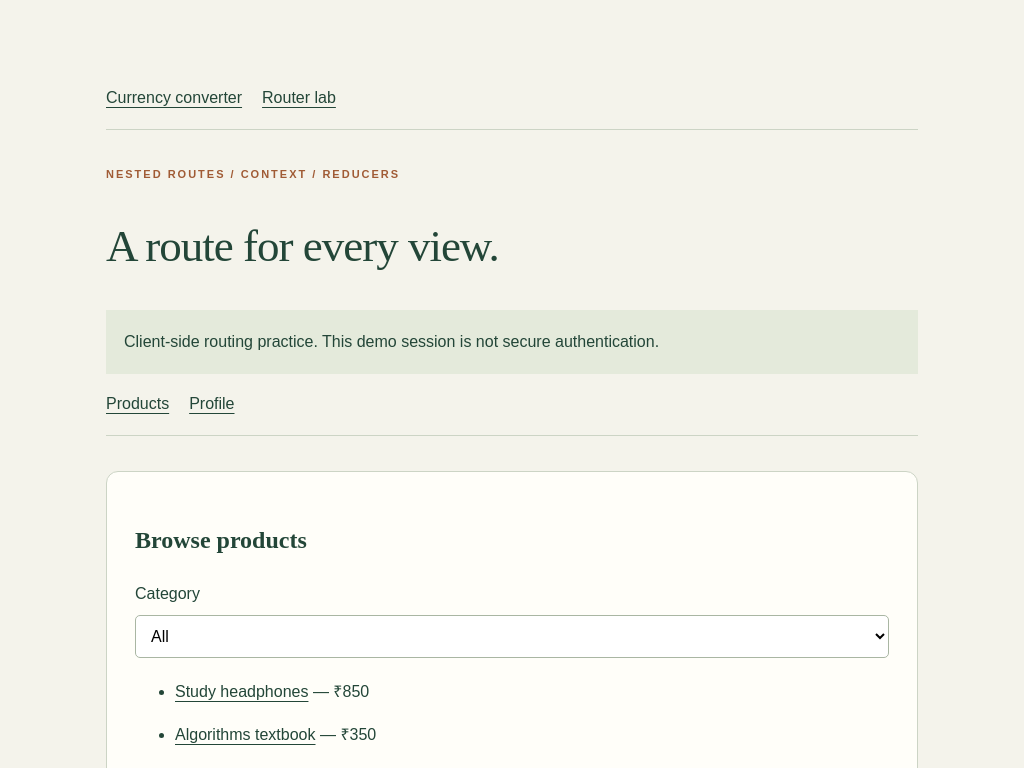
it: uses nested product routes and renders missing products
Select "Books" in the dropdown labelled "Category". click: {"x": 512, "y": 637}
box: [135,616,889,658]
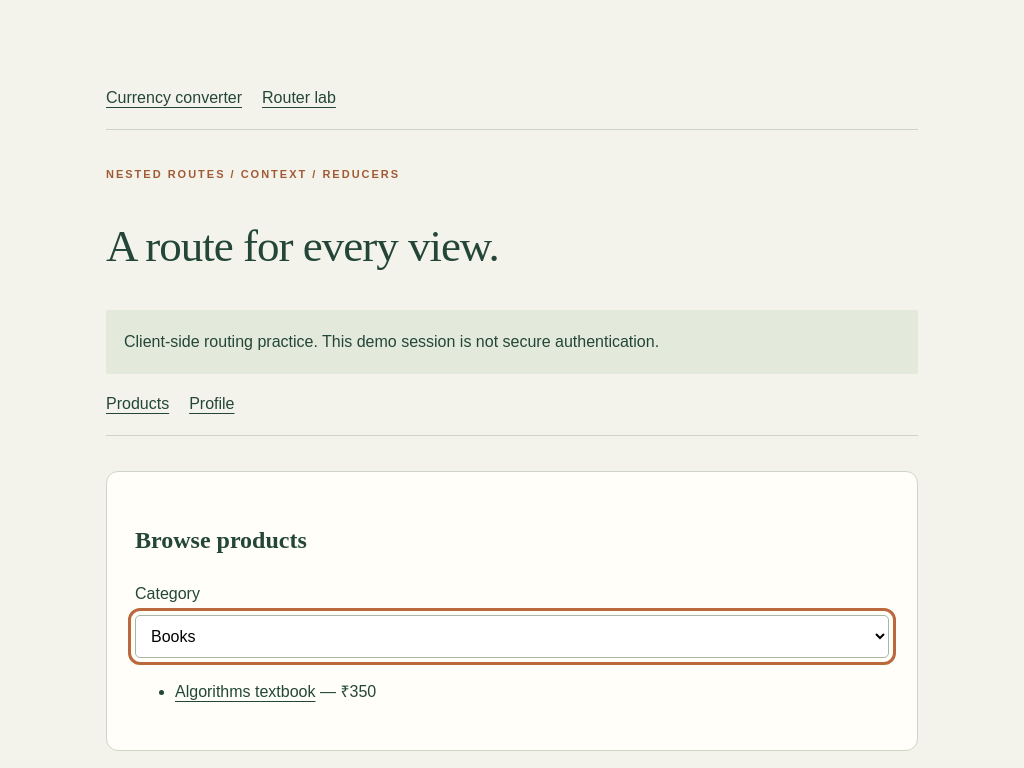
expect the link "Study headphones" is gone: met
Click the link "Algorithms textbook". click: {"x": 245, "y": 692}
box: [175,684,316,700]
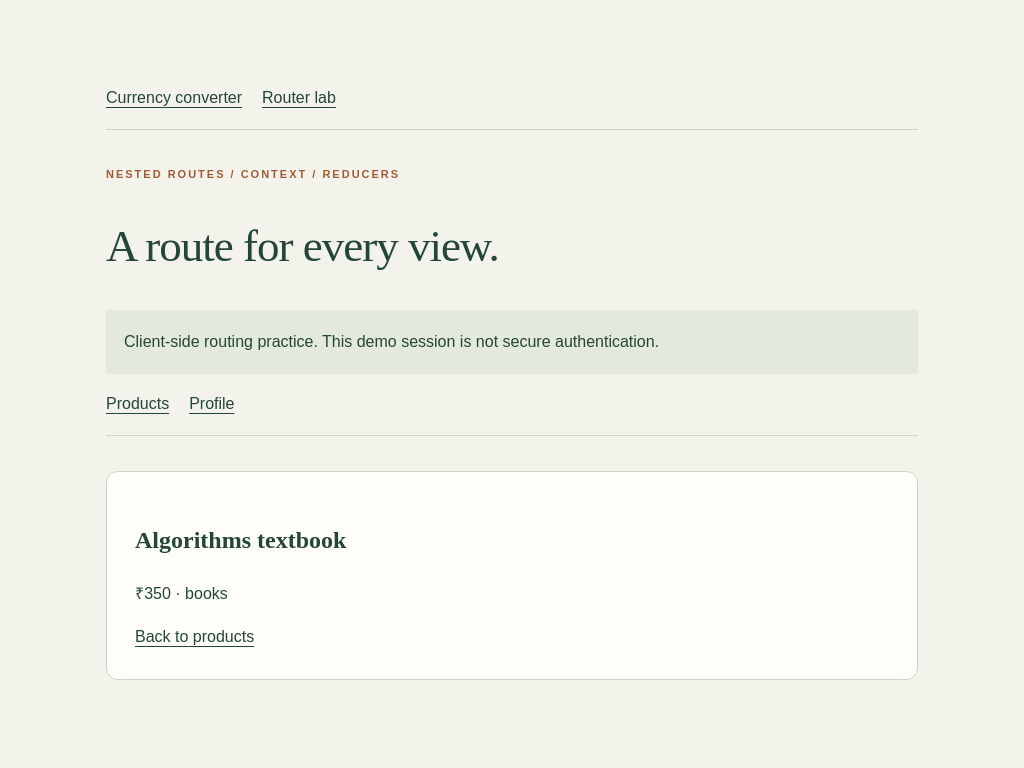
expect the heading "Algorithms textbook" is shown: met, box [135,527,346,553]
